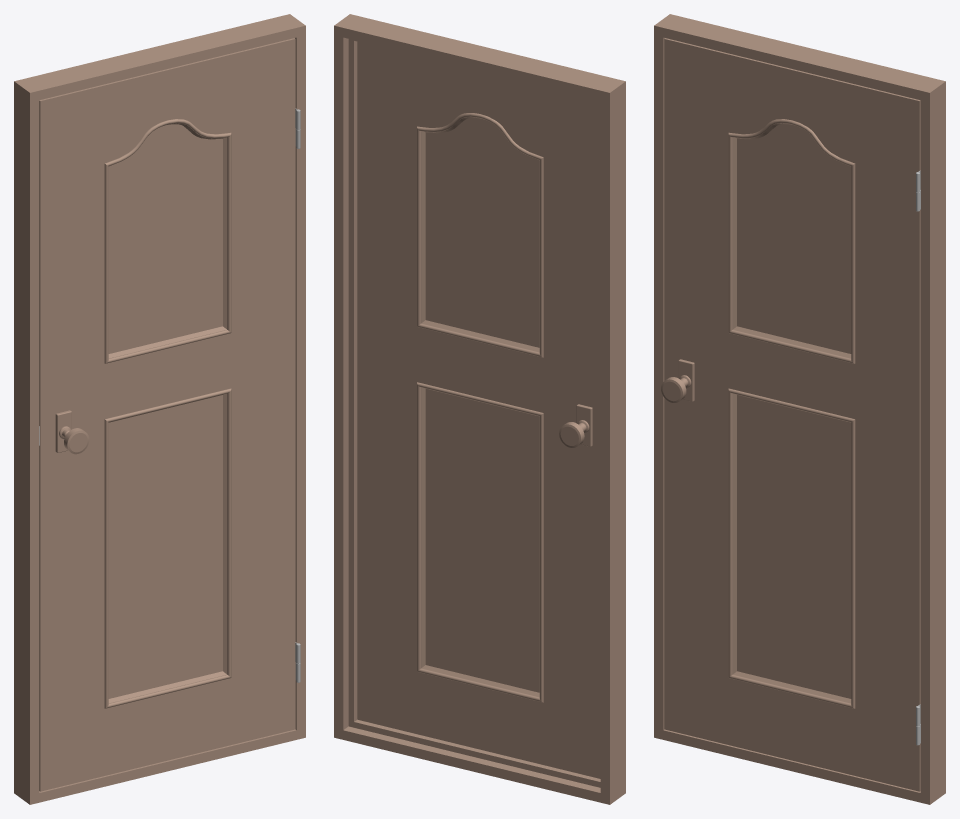
The model's file is 148_室内ドア閉.glb.
3 renders of one model, left to right at view 1: azimuth 30°, elevation 25°; view 2: azimuth 150°, elevation 25°; view 3: azimuth 330°, elevation 25°, orthographic.
Parts seen in each view (by area): view 1: 戸, ドア枠; view 2: 戸, ドア枠; view 3: 戸, ドア枠.
Part boxes in pixels (x1,y1,x2,y2): 戸: (39,38,300,791); ドア枠: (14,14,305,804); 戸: (357,41,600,778); ドア枠: (334,14,625,804); 戸: (661,38,920,791); ドア枠: (654,14,945,804).
Bounding box in the file's own units: 0.75 × 1.85 × 0.181.
